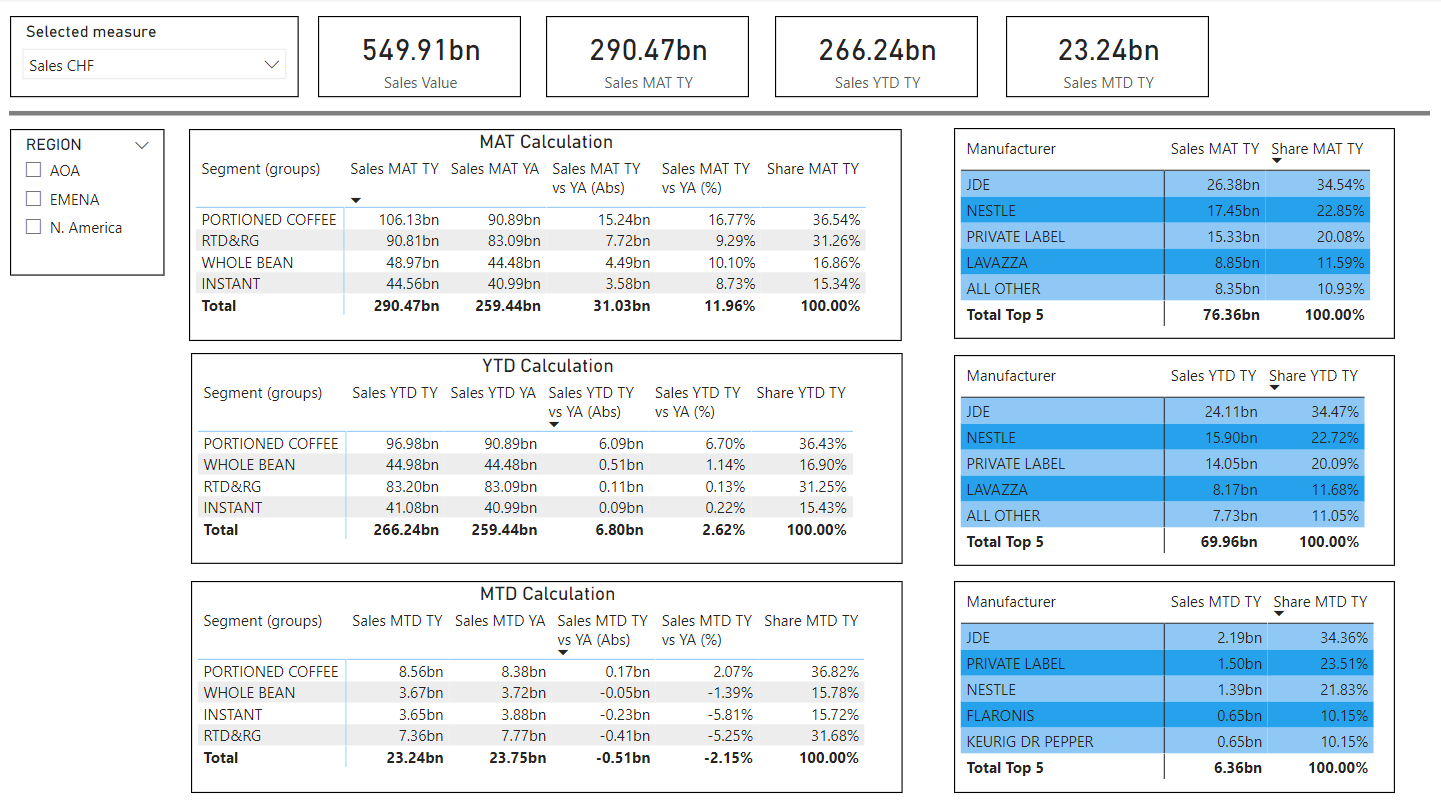

The dashboard page shown, as its layout file describes it:
{"tool":"powerbi","page":{"name":"Advanced Page 1","canvas":[1280,720],"ordinal":1},"visuals":[{"type":"pivotTable","title":"MAT Calculation","fields":{"Rows":["Coffee_data (1).Segment (group)"],"Values":["Coffee_data (1).Sales MAT TY","Coffee_data (1).Sales MAT YA","Coffee_data (1).Sales MAT TY vs YA (Abs)","Coffee_data (1).Sales MAT TY vs YA (%)","Divide(Coffee_data (1).Sales MAT TY, ScopedEval(Coffee_data (1).Sales MAT TY, [Role.Columns]))"]},"box":[168.8,116,631.7,188.5],"z":0},{"type":"slicer","fields":{"Values":["Currency.Currency"]},"box":[9.3,15.5,255.8,72.5],"z":1000},{"type":"card","fields":{"Values":["Coffee_data (1).Sales Value"]},"box":[282.9,16,180,71.8],"z":2000},{"type":"card","fields":{"Values":["Coffee_data (1).Sales Value для 1/1/2020, 2/1/2020, 3/1/2020, 4/1/2020, 5/1/2020, 6/1/2020, 7/1/2020, 8/1/2020, 9/1/2020"]},"box":[485,16,180,71.8],"z":3000},{"type":"card","fields":{"Values":["Coffee_data (1).Sales YTD TY"]},"box":[688.1,16,180,71.8],"z":4000},{"type":"card","fields":{"Values":["Coffee_data (1).Sales MTD TY"]},"box":[892.9,16,180,71.8],"z":5000},{"type":"shape","box":[9.2,89,1259.5,26.6],"z":6000},{"type":"slicer","fields":{"Values":["Coffee_data (1).REGION"]},"box":[9.3,116,136.7,130.5],"z":7000},{"type":"pivotTable","title":"MAT Calculation","fields":{"Values":["Coffee_data (1).Sales MAT TY","Divide(Coffee_data (1).Sales MAT TY, ScopedEval(Coffee_data (1).Sales MAT TY, []))"],"Rows":["Coffee_data (1).Manufacturer"]},"box":[847.1,115,391.5,187.4],"z":8000},{"type":"pivotTable","title":"YTD Calculation","fields":{"Rows":["Coffee_data (1).Segment (group)"],"Values":["Coffee_data (1).Sales YTD TY","Coffee_data (1).Sales YTD YA","Coffee_data (1).Sales YTD TY минус Sales YTD YA","Coffee_data (1).Sales YTD TY vs YA (Abs) разделить на Sales YTD YA","Divide(Coffee_data (1).Sales YTD TY, ScopedEval(Coffee_data (1).Sales YTD TY, []))"]},"box":[169.8,314.9,630.7,187.4],"z":9000},{"type":"pivotTable","title":"MAT Calculation","fields":{"Rows":["Coffee_data (1).Manufacturer"],"Values":["Coffee_data (1).Sales YTD TY","Divide(Coffee_data (1).Sales YTD TY, ScopedEval(Coffee_data (1).Sales YTD TY, []))"]},"box":[847.1,316.9,391.5,187.4],"z":10000},{"type":"pivotTable","title":"MTD Calculation","fields":{"Rows":["Coffee_data (1).Segment (group)"],"Values":["Coffee_data (1).Sales MTD TY","Coffee_data (1).Sales MTD YA","Coffee_data (1).Sales MTD TY минус Sales MTD YA","Coffee_data (1).Sales MTD TY минус Sales MTD YA разделить на Sales MTD YA","Divide(Coffee_data (1).Sales MTD TY, ScopedEval(Coffee_data (1).Sales MTD TY, []))"]},"box":[169.8,516.8,630.7,188.5],"z":11000},{"type":"pivotTable","title":"MAT Calculation","fields":{"Rows":["Coffee_data (1).Manufacturer"],"Values":["Coffee_data (1).Sales MTD TY","Divide(Coffee_data (1).Sales MTD TY, ScopedEval(Coffee_data (1).Sales MTD TY, []))"]},"box":[847.1,516.8,391.5,188.5],"z":12000}]}

Visuals, with their boxes in screenshot pixels (x1, y1, x2, y2), scaled from the page's 1280x720 canvas onto the 1441x808 screenshot:
"MAT Calculation" pivotTable: BBox(190, 130, 901, 342)
slicer - Currency.Currency: BBox(10, 17, 298, 99)
card - Coffee_data (1).Sales Value: BBox(318, 18, 521, 99)
card - Coffee_data (1).Sales Value для 1/1/2020, 2/1/2020, 3/1/2020, 4/1/2020, 5/1/2020, 6/1/2020, 7/1/2020, 8/1/2020, 9/1/2020: BBox(546, 18, 749, 99)
card - Coffee_data (1).Sales YTD TY: BBox(775, 18, 977, 99)
card - Coffee_data (1).Sales MTD TY: BBox(1005, 18, 1208, 99)
shape: BBox(10, 100, 1428, 130)
slicer - Coffee_data (1).REGION: BBox(10, 130, 164, 277)
"MAT Calculation" pivotTable: BBox(954, 129, 1394, 339)
"YTD Calculation" pivotTable: BBox(191, 353, 901, 564)
"MAT Calculation" pivotTable: BBox(954, 356, 1394, 566)
"MTD Calculation" pivotTable: BBox(191, 580, 901, 792)
"MAT Calculation" pivotTable: BBox(954, 580, 1394, 792)
